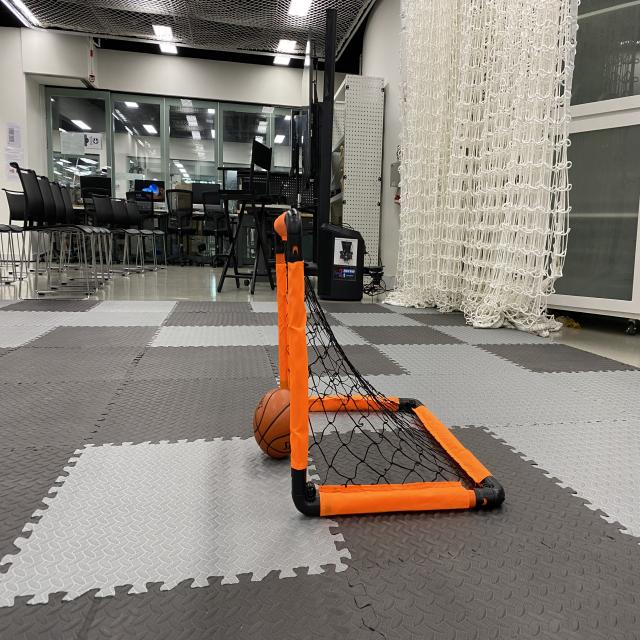ball: (250, 384, 314, 465)
gate: (248, 201, 511, 527)
